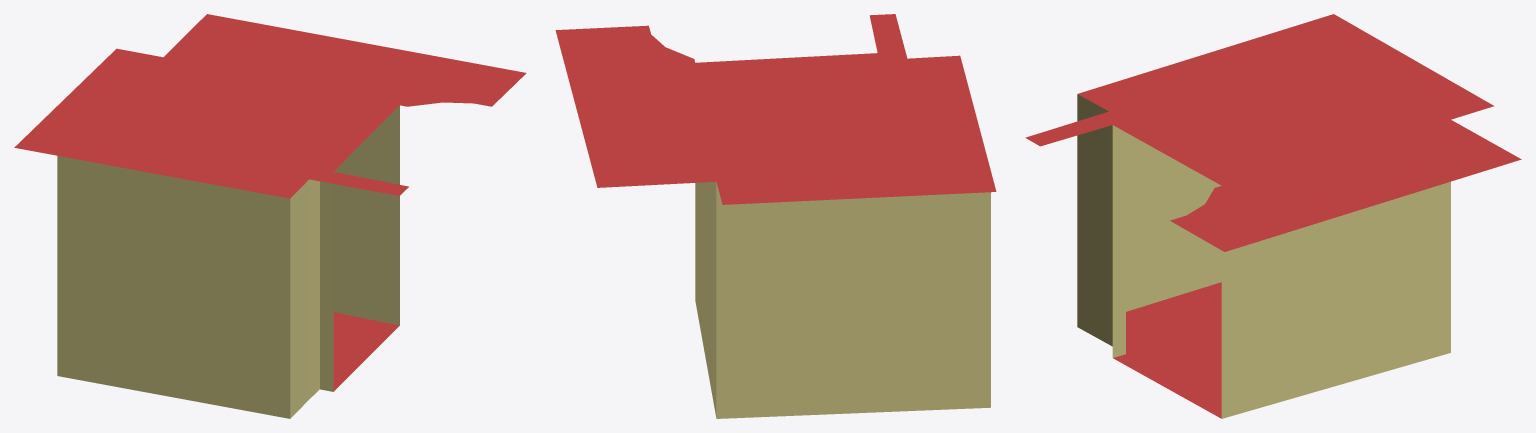
3 views of the same model, side by side, from view 1: azimuth 30°, elevation 25°; view 2: azimuth 150°, elevation 25°; view 3: azimuth 270°, elevation 25° (orthographic). The views are drawn at different scales.
Bounding box in the file's own units: 12.42 × 10.95 × 5.67.
